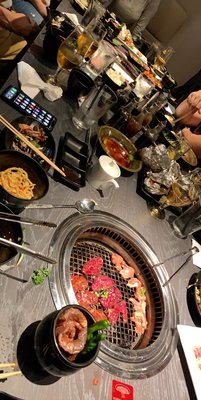pizza: (77, 81, 118, 126)
